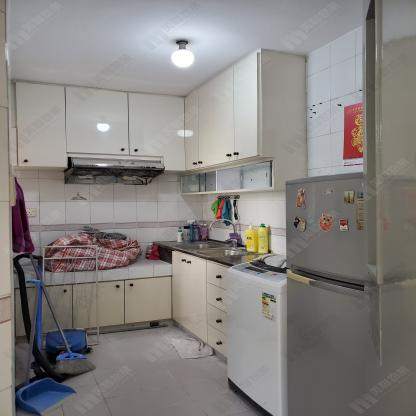Cupboard: (13, 252, 226, 361), (179, 48, 307, 195), (14, 83, 185, 171)
Faucet: (208, 218, 239, 243)
Fridge: (286, 173, 416, 416)
Sink: (171, 242, 255, 257)
Washing Machine: (226, 252, 286, 416), (66, 156, 164, 179)
